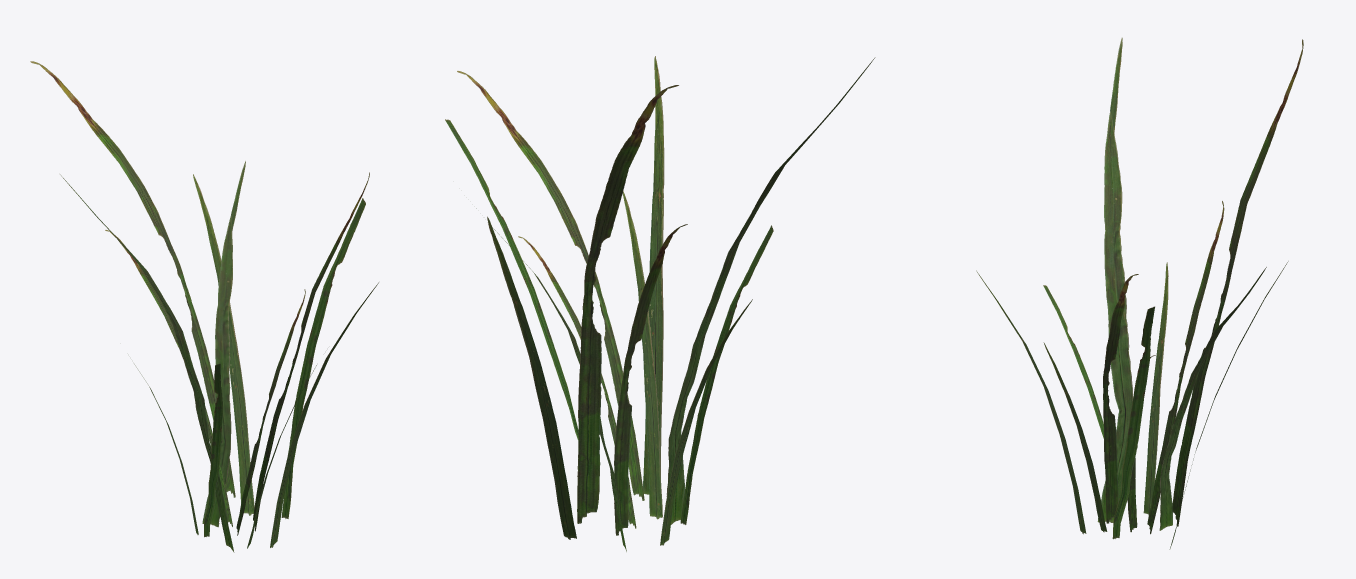
The model's file is grass.fbx.
3 views of the same model, side by side, from view 1: azimuth 30°, elevation 25°; view 2: azimuth 150°, elevation 25°; view 3: azimuth 270°, elevation 25° (orthographic). The views are drawn at different scales.
Parts seen in each view (by area): view 1: Foliage01_col; view 2: Foliage01_col; view 3: Foliage01_col.
Part boxes in pixels (<box>): Foliage01_col: <box>30,61,378,552</box>; Foliage01_col: <box>445,56,875,551</box>; Foliage01_col: <box>976,37,1303,549</box>.
Bounding box in the file's own units: 63.56 × 81.55 × 61.61.
Materials: 1 (1 with a texture image).
